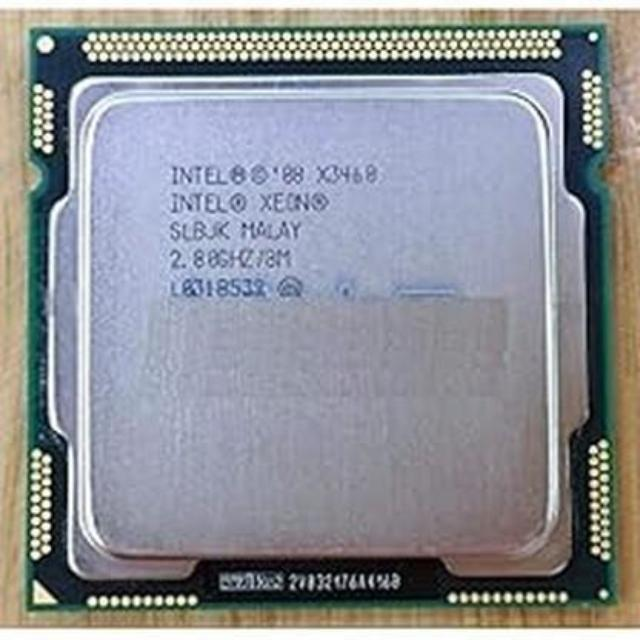CPU: (22, 26, 624, 606)
